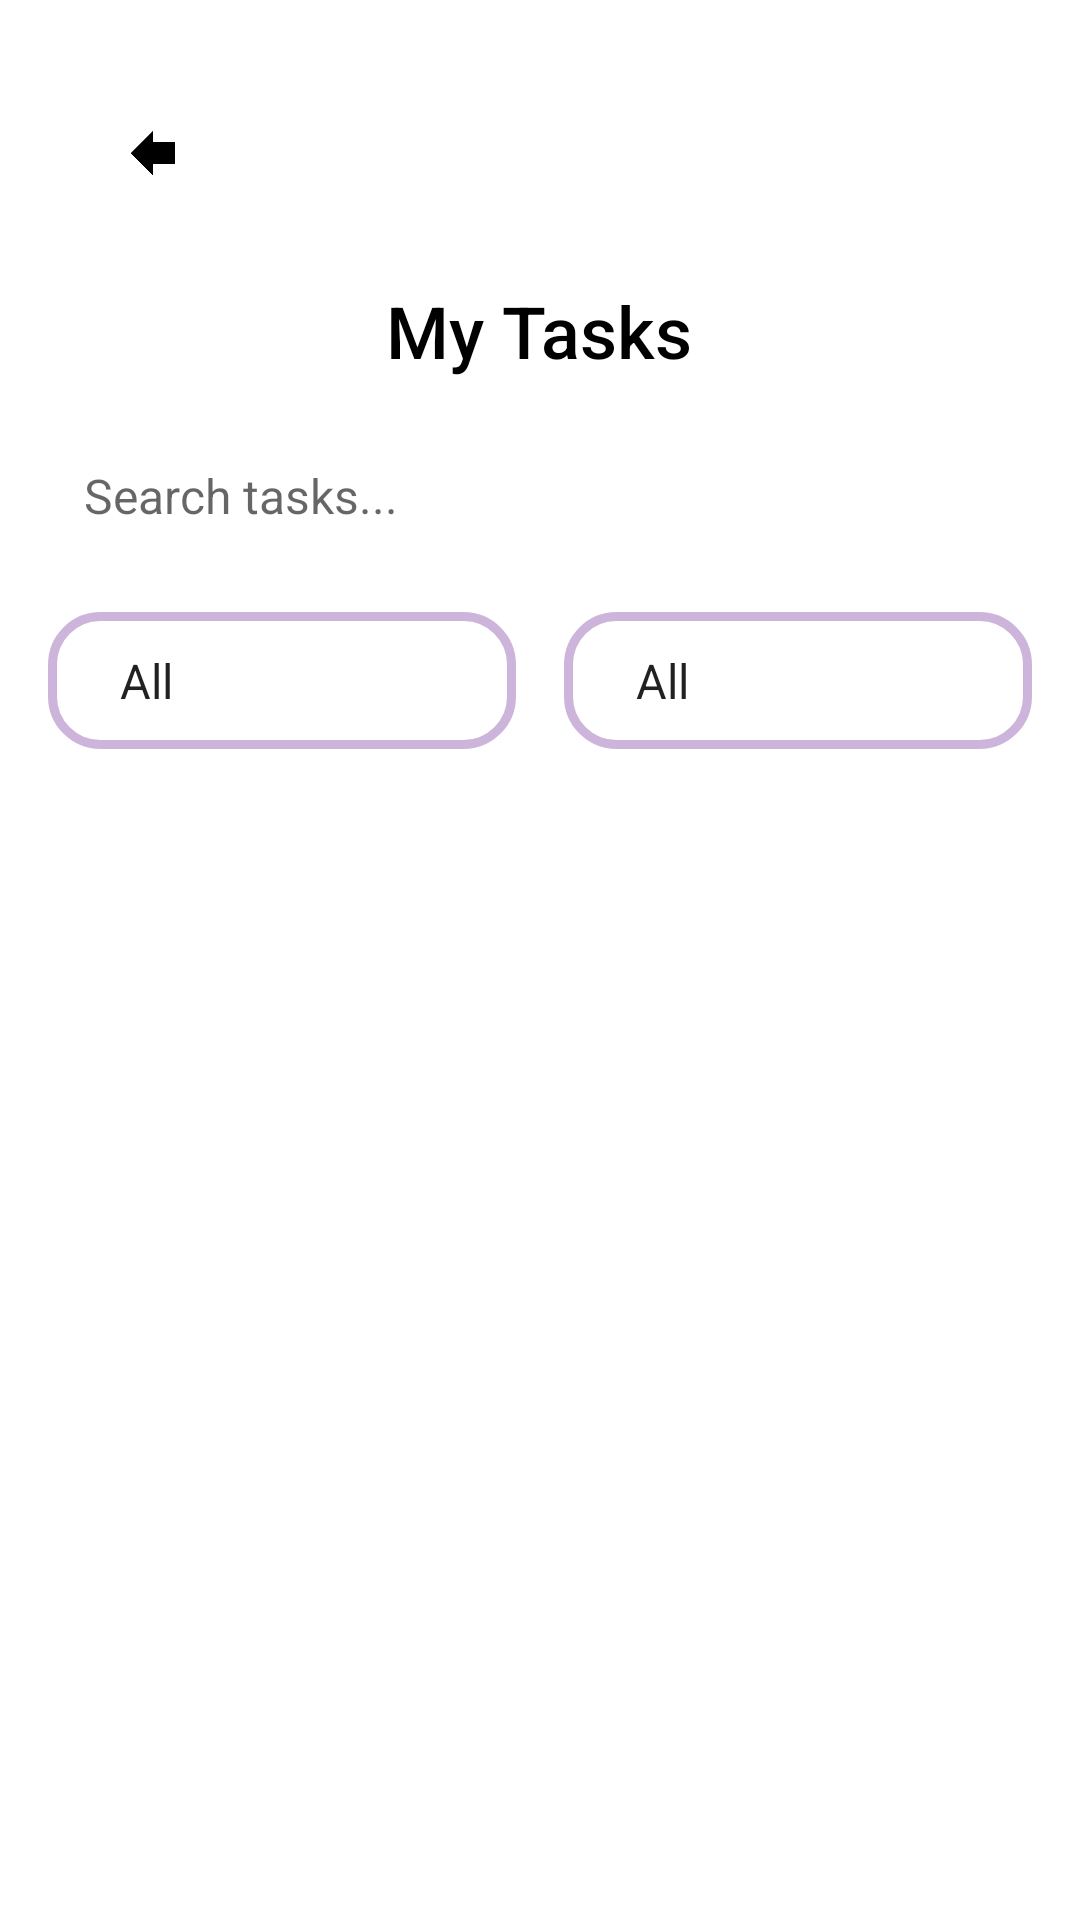

Named icons in this screenshot (1080 × 1920) and their bounding boxes, (x1=x1, y1=y1, x2=x2, y2=y2):
Back: (x1=131, y1=131, x2=175, y2=175)
